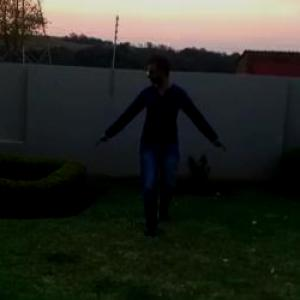land: (94, 54, 238, 256)
